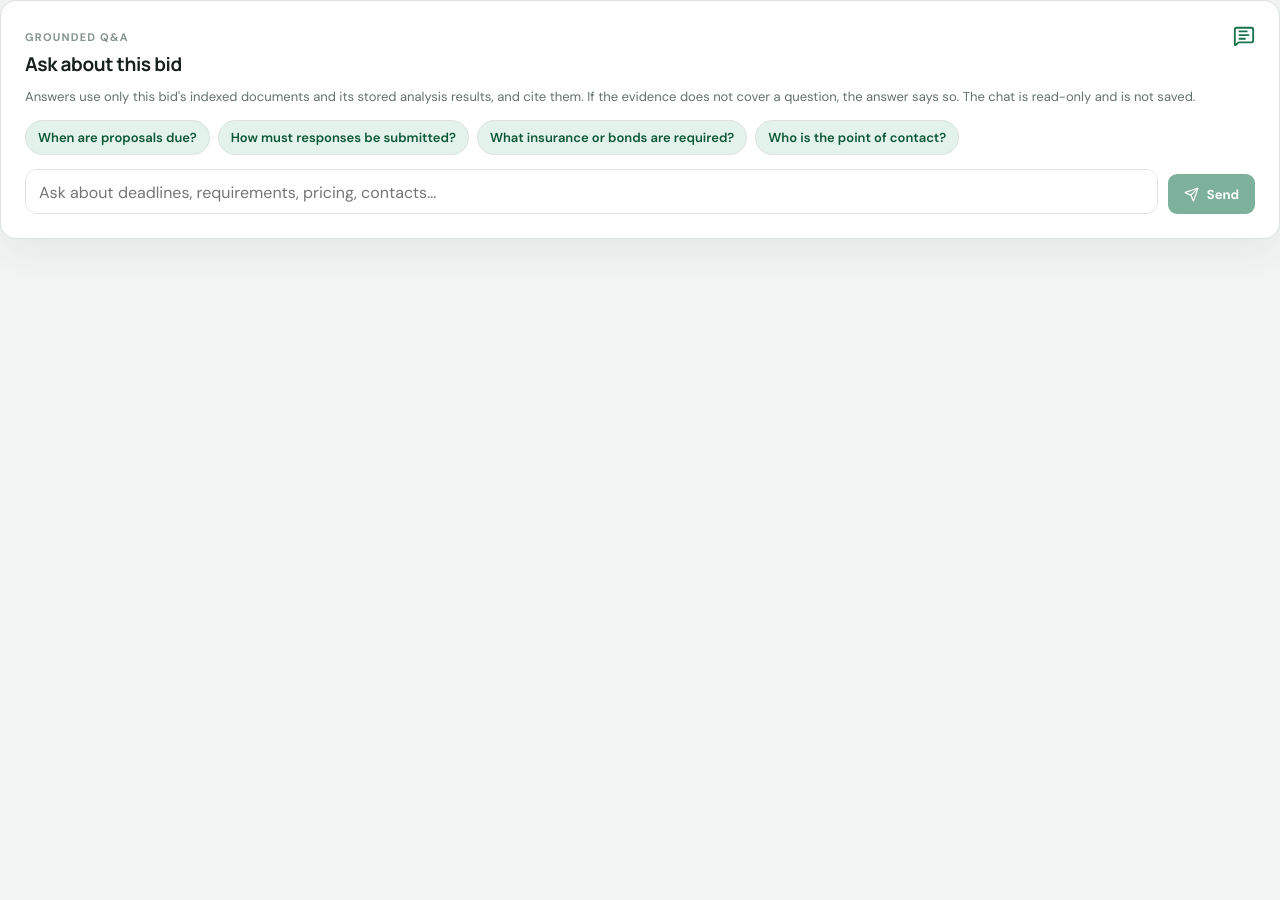
bid chat › sends earlier turns as history for follow-up questions
Type "When are proposals due?" into the text box named "Your question" at point(591, 192), box [25,169,1158,214]
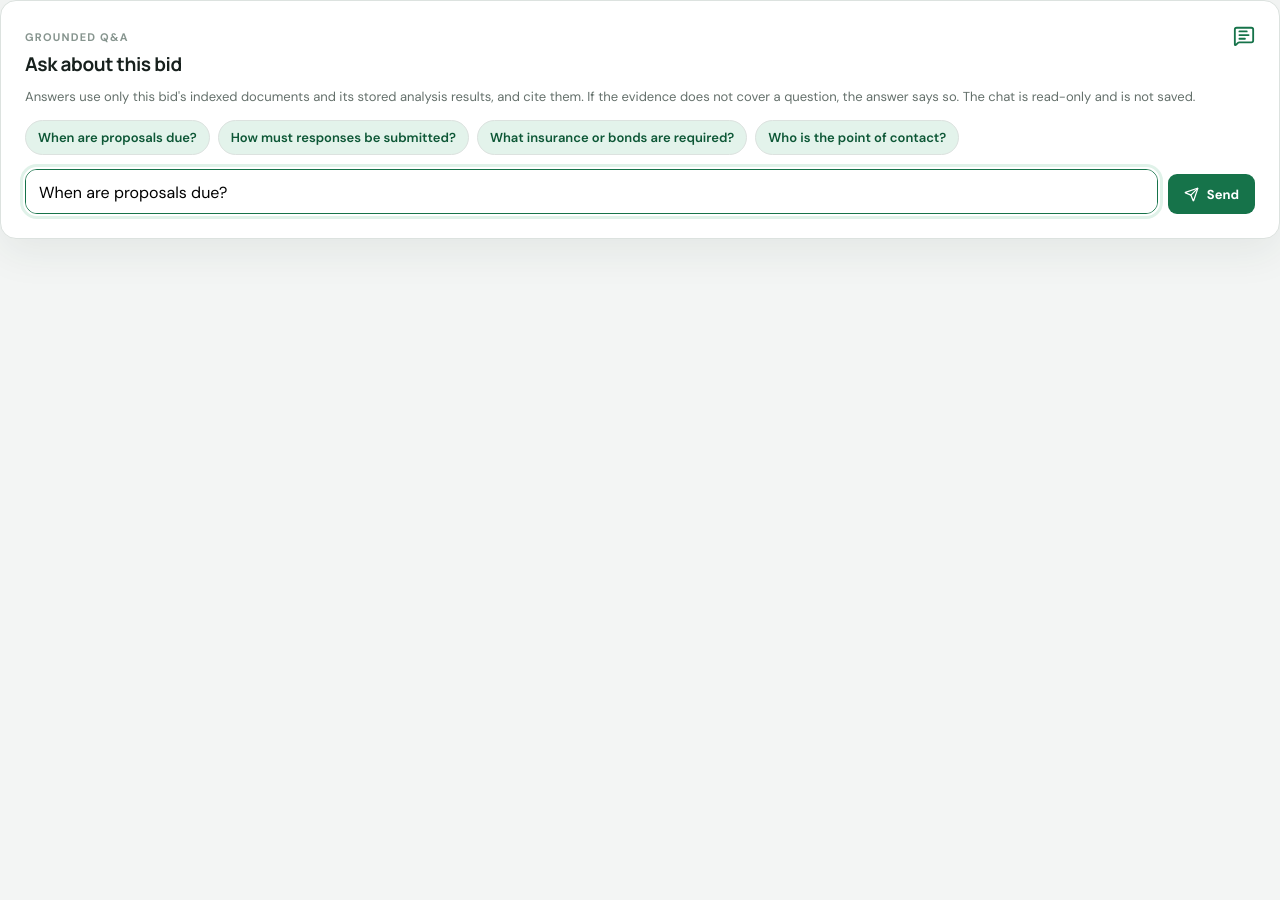
Press Enter
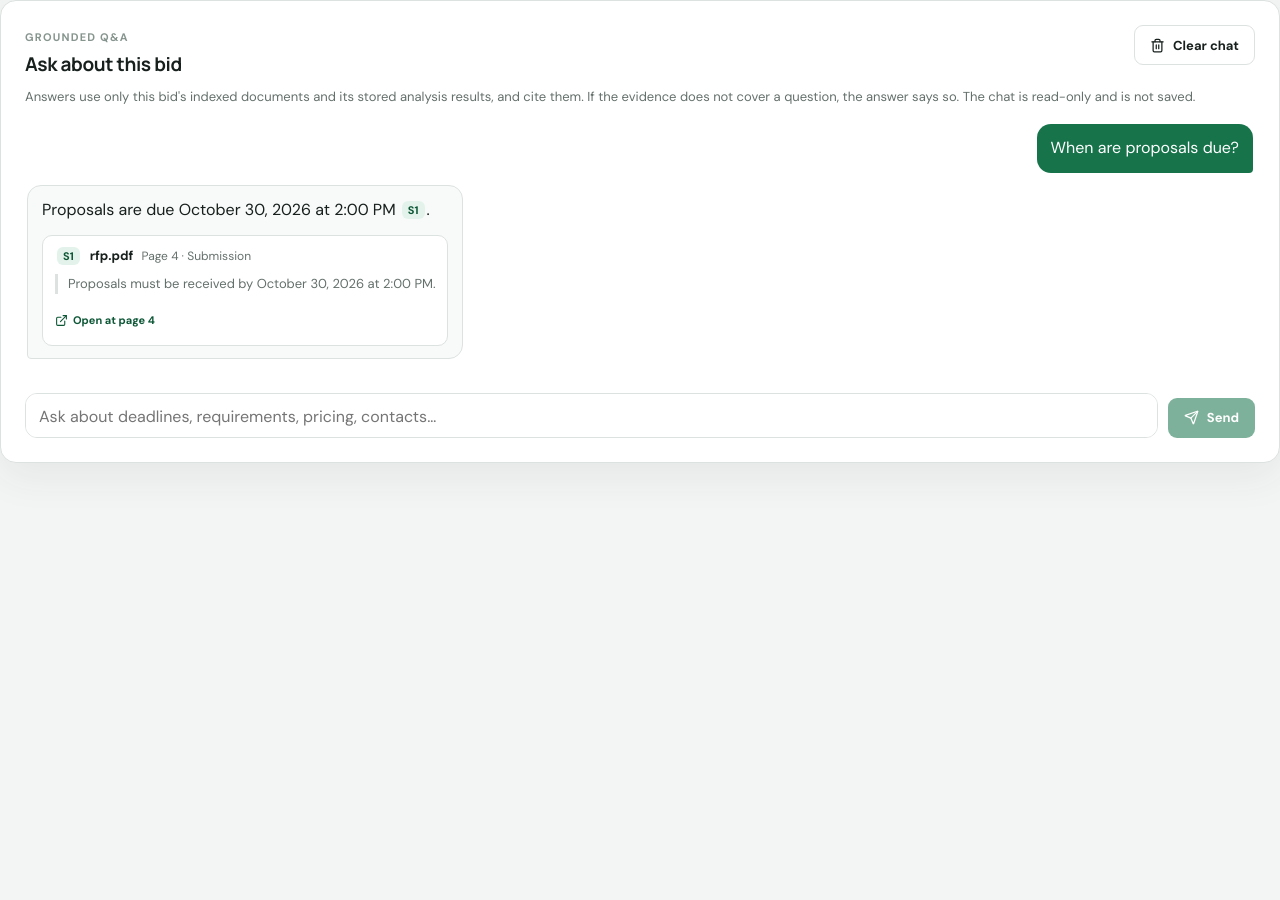
Result: the text "Proposals are due October 30, 2026 at 2:00 PM S1 ." is shown at [42,198,448,223]
Type "And the bond?" into the text box named "Your question" at point(591, 415), box [25,393,1158,438]
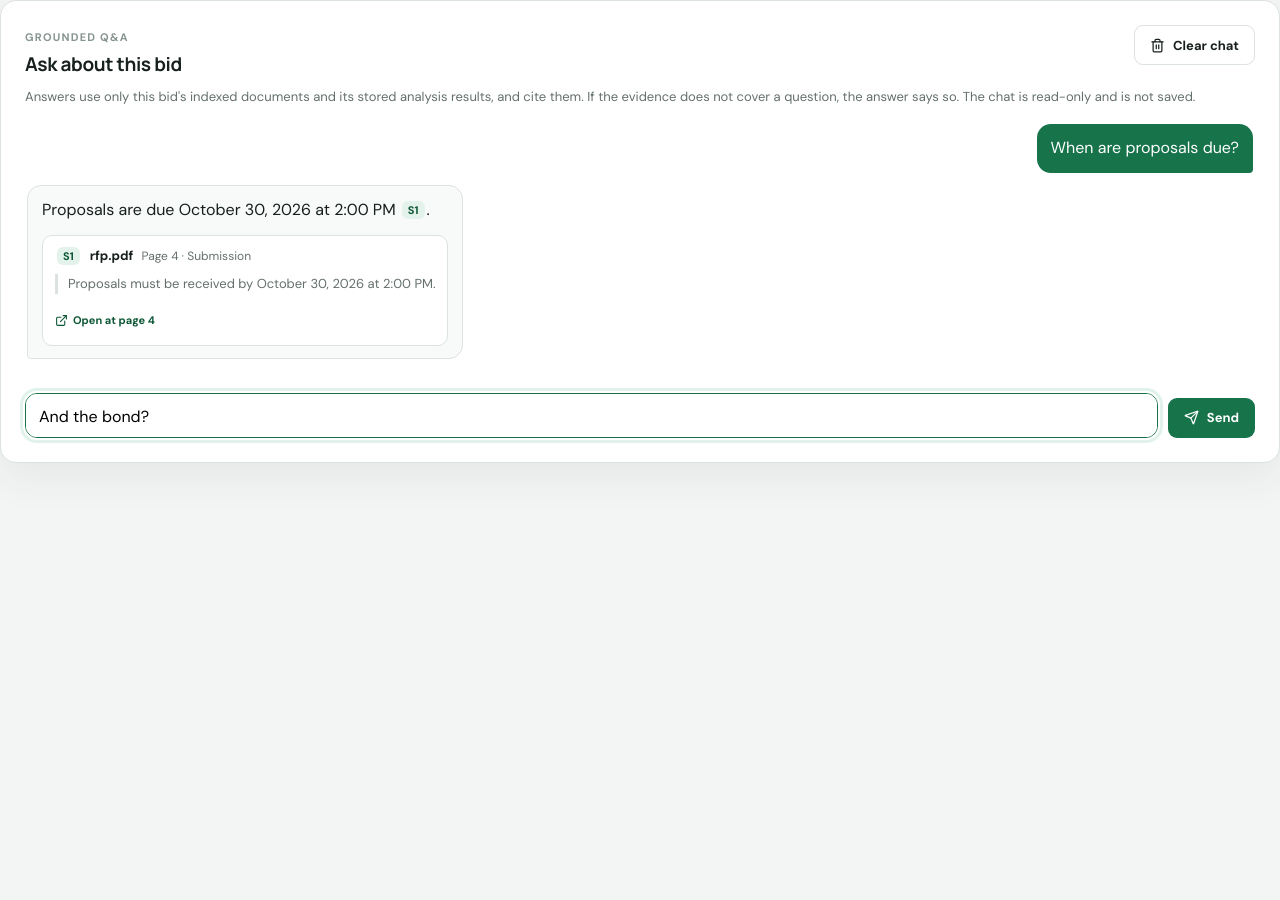
Press Enter
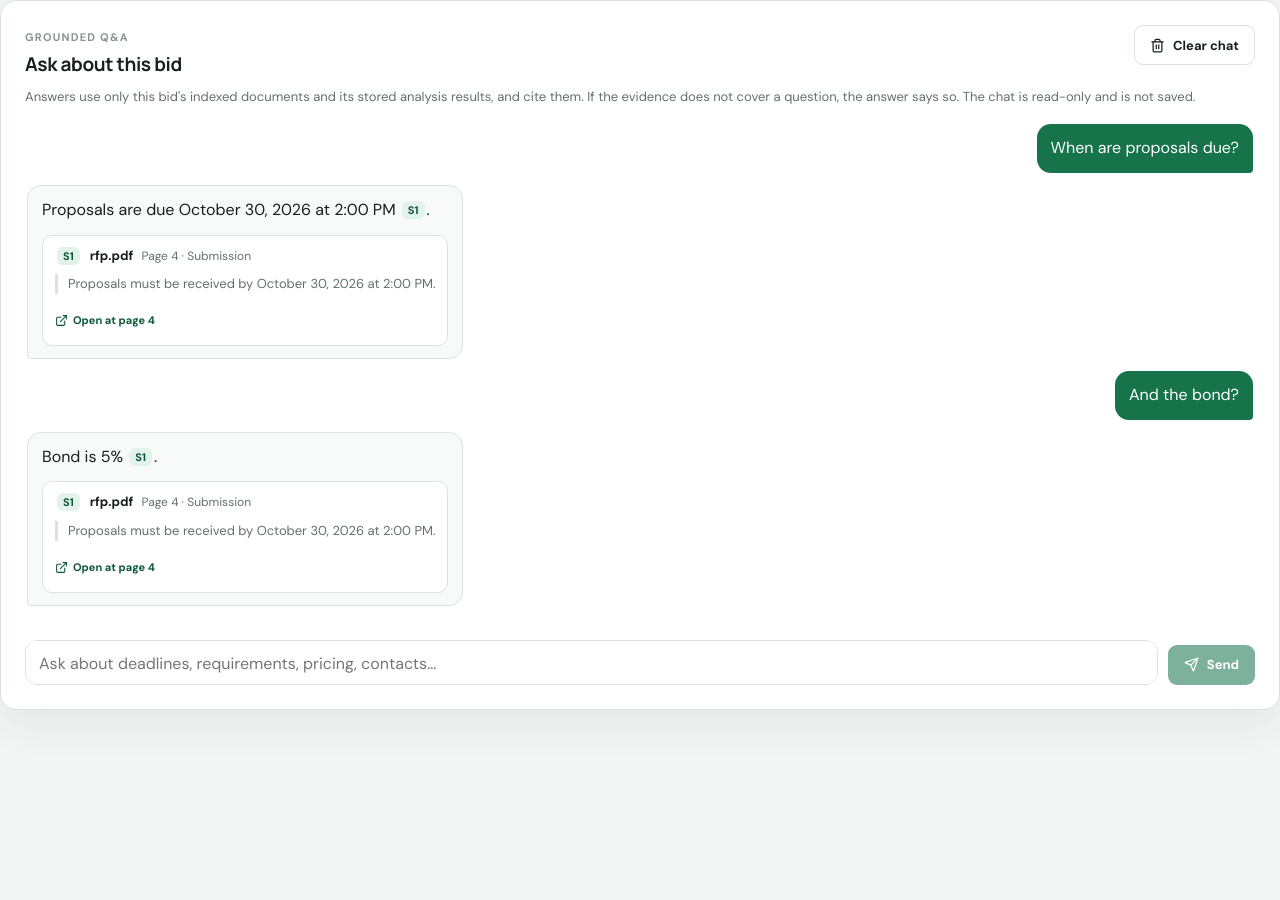
Result: the text "Bond is 5% S1 ." is shown at [42,446,157,467]
